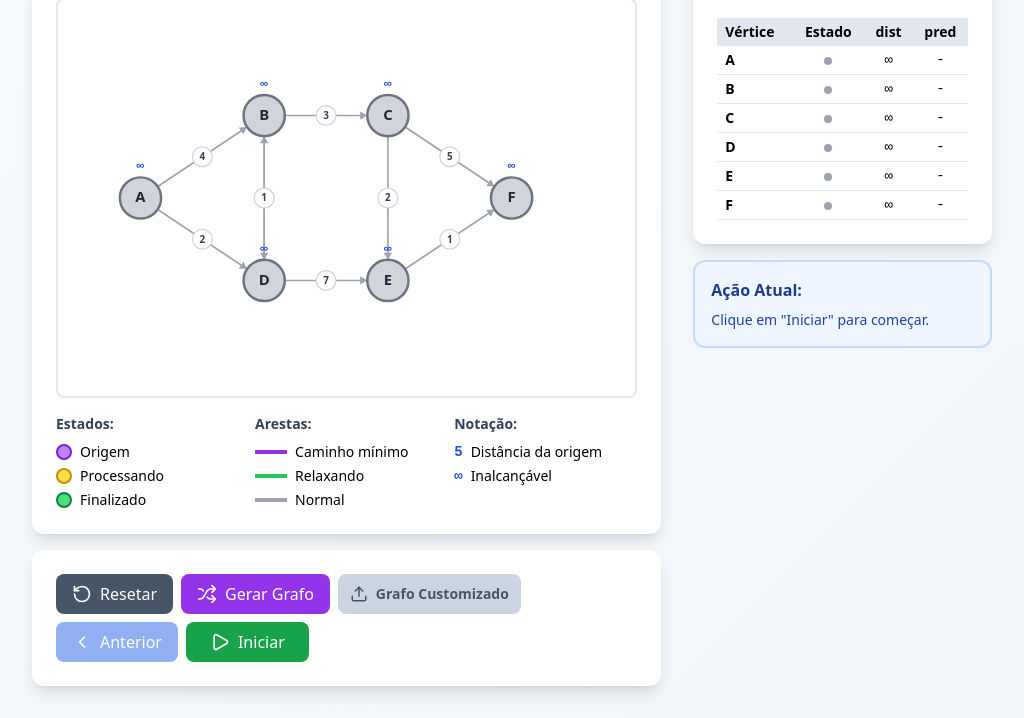
Test: DijkstraSimulator Integration › should start simulation and show first step
This screenshot has width=1024, height=718.
(page scrolled)
Click the button with test id "start-button" at {"x": 247, "y": 642}, box left=186, top=622, right=309, bottom=662
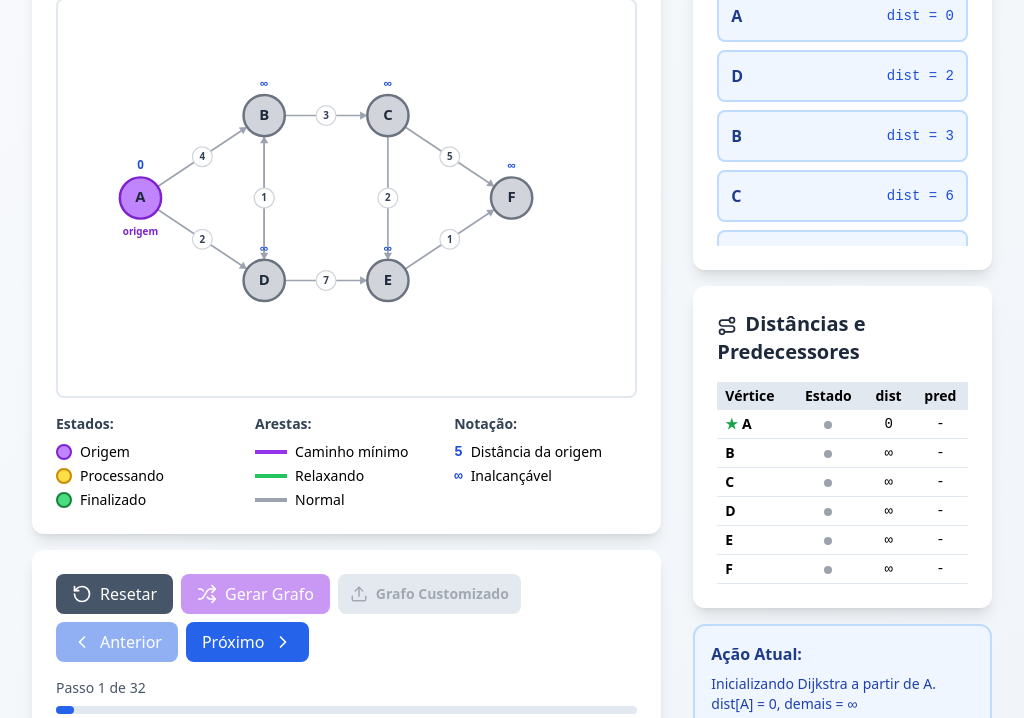
expect the text "Inicializando" is shown: met, box left=711, top=674, right=936, bottom=713
